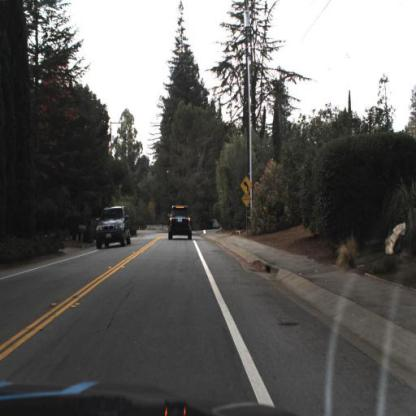car: (95, 206, 133, 253), (169, 207, 193, 244)
